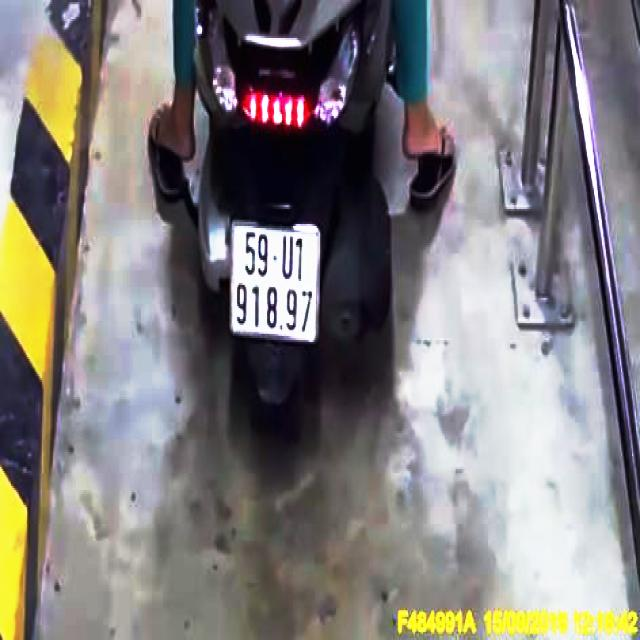license_plate: (233, 222, 319, 341)
